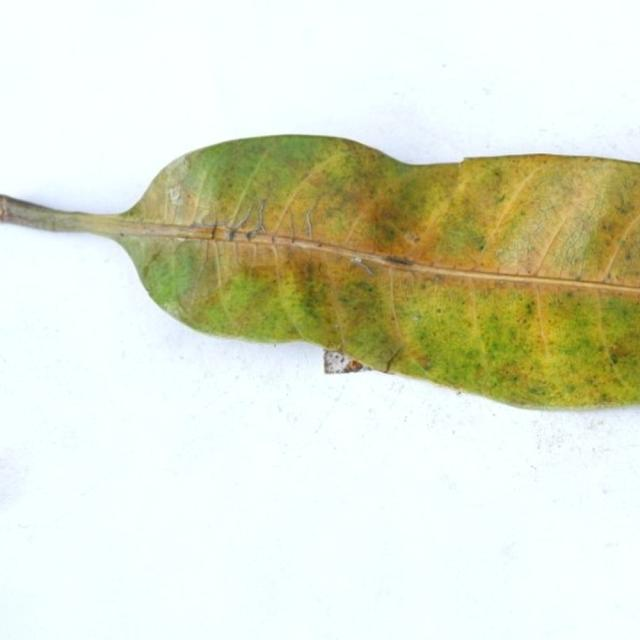Mango: (0, 136, 639, 407)
Powdery_Mildew: (283, 266, 339, 329), (520, 296, 543, 324), (375, 222, 400, 245), (520, 244, 543, 269), (534, 199, 561, 218), (495, 245, 518, 265), (609, 342, 633, 360), (475, 234, 495, 255), (412, 352, 432, 369), (562, 285, 579, 302), (617, 201, 635, 215), (403, 231, 421, 244), (528, 385, 547, 395), (141, 264, 152, 281), (474, 237, 486, 251), (227, 227, 238, 241), (184, 191, 195, 203), (624, 248, 634, 261), (495, 194, 506, 204), (610, 353, 620, 364), (606, 272, 615, 282), (574, 274, 584, 282), (526, 269, 534, 276), (413, 314, 421, 321), (119, 232, 126, 237), (437, 308, 442, 313), (318, 243, 323, 248)
